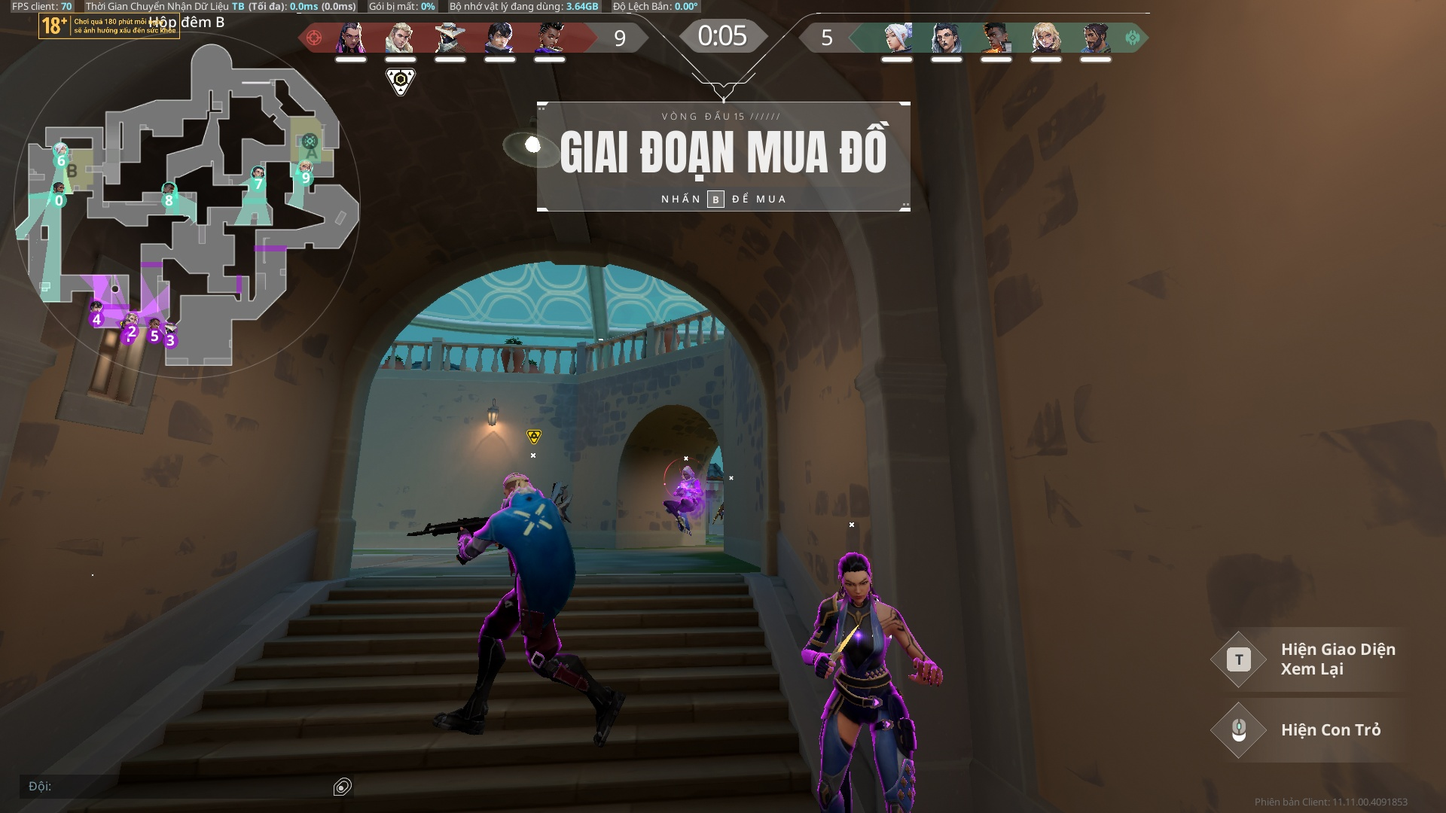body: (811, 591, 902, 678), (493, 492, 571, 585), (674, 478, 706, 502)
head: (840, 556, 876, 603), (499, 470, 535, 501), (680, 466, 699, 481)
